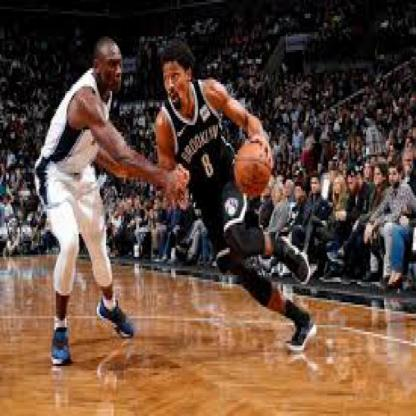basketball: (231, 146, 271, 196)
